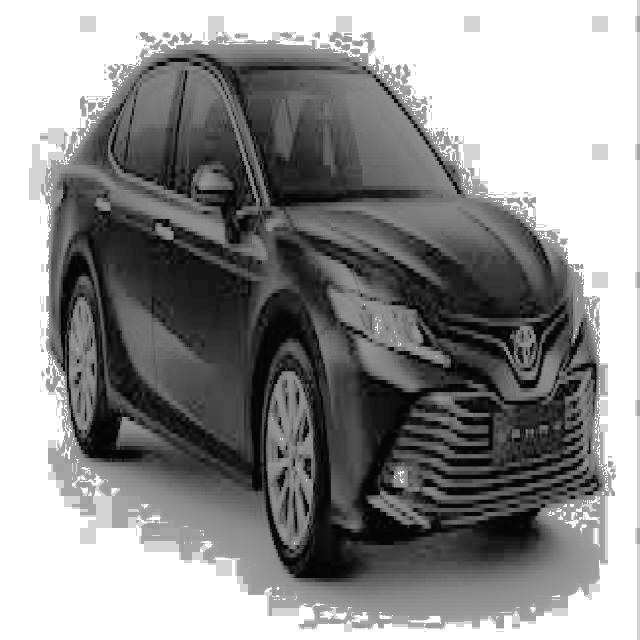Car: (52, 37, 608, 595)
